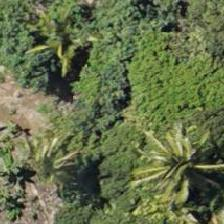coconut_tree: (128, 120, 218, 210)
